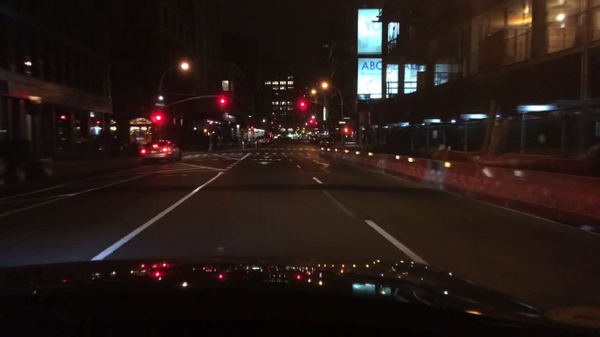car: (140, 138, 182, 165), (319, 137, 333, 147), (255, 135, 266, 144), (309, 135, 321, 143), (277, 135, 293, 140), (266, 136, 274, 144)
traffic light: (219, 96, 225, 105), (156, 116, 162, 125), (300, 100, 304, 109), (343, 127, 348, 133), (310, 118, 314, 125), (251, 124, 253, 129)
traffic sign: (155, 103, 165, 107), (337, 120, 345, 124), (343, 117, 350, 119)
